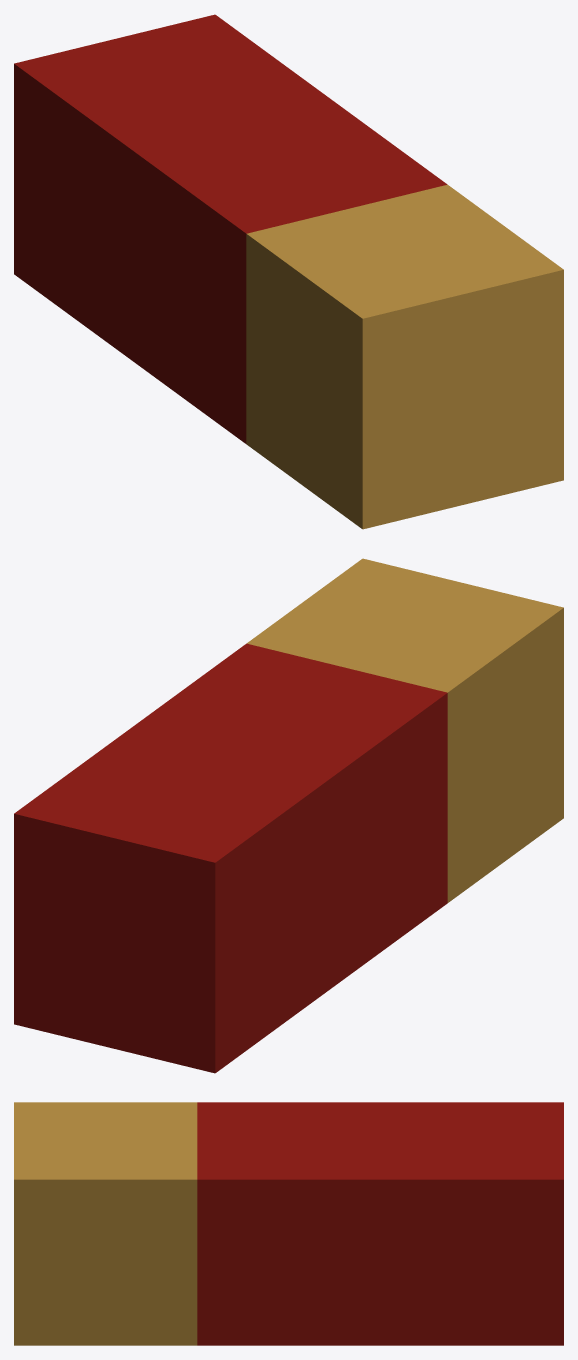
File: round_shell.glb
3 renders of one model, top to bottom at view 1: azimuth 30°, elevation 25°; view 2: azimuth 150°, elevation 25°; view 3: azimuth 270°, elevation 25°, orthographic. The views are drawn at different scales.
Parts seen in each view (by area): view 1: wpn__round_shell__body; view 2: wpn__round_shell__body; view 3: wpn__round_shell__body.
Part boxes in pixels (<box>): wpn__round_shell__body: <box>14,14,563,529</box>; wpn__round_shell__body: <box>14,558,563,1073</box>; wpn__round_shell__body: <box>14,1102,563,1345</box>.
Bounding box in the file's own units: 0.025 × 0.025 × 0.075.
